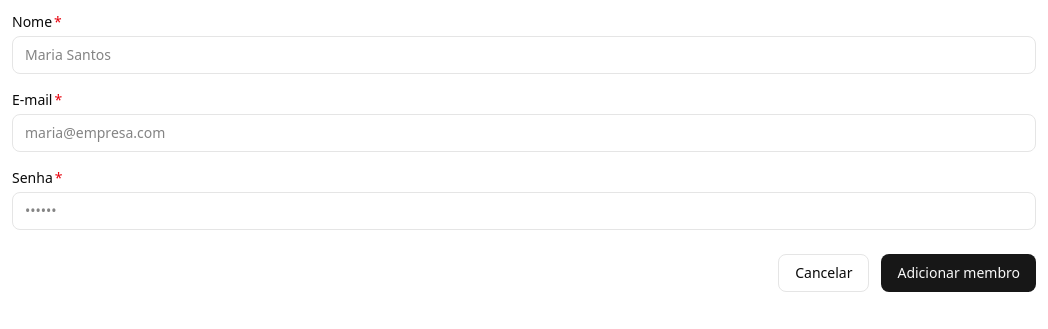
it: TeamForm — validação › e-mail inválido → erro após blur
Type "invalido" into the field labelled "E-mail*" at (524, 133), box top-left (12, 114), bottom-right (1036, 152)
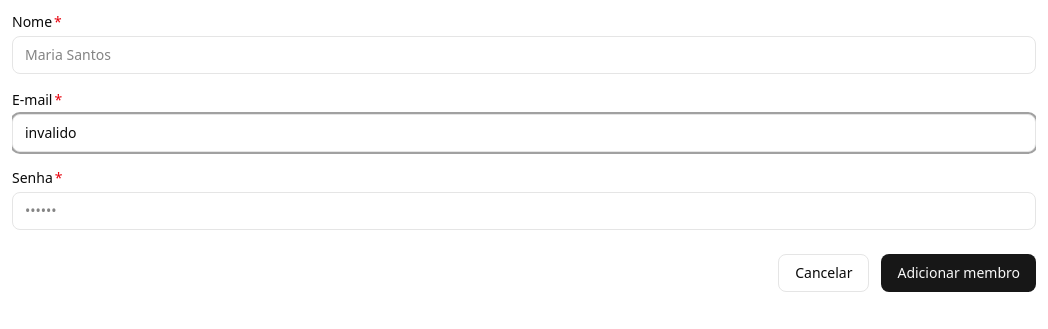
Press Tab
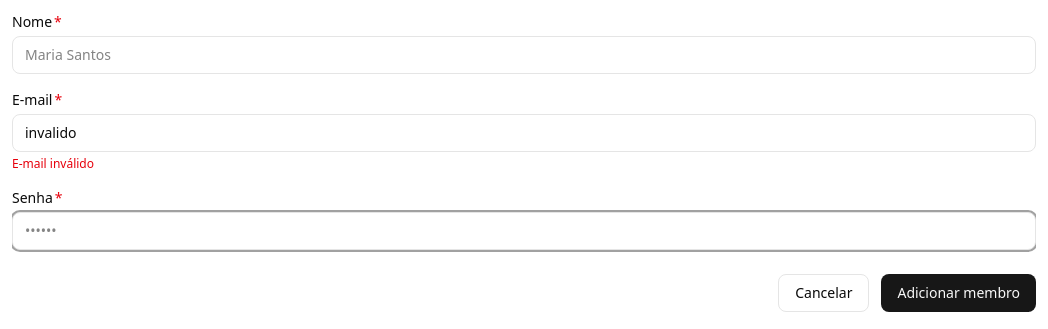
Expected: the message reads "E-mail inválido", top-left (12, 155), bottom-right (94, 172)
